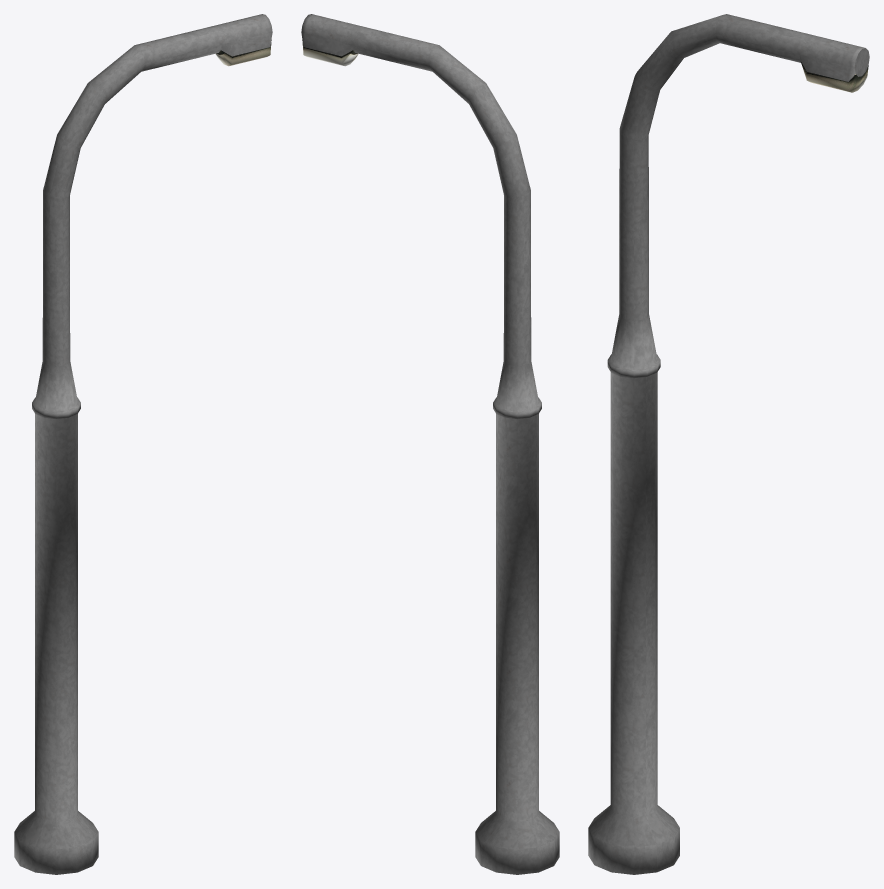
File: lamp.fbx
3 renders of one model, left to right at view 1: azimuth 30°, elevation 25°; view 2: azimuth 150°, elevation 25°; view 3: azimuth 330°, elevation 25°, orthographic. The views are drawn at different scales.
Visible parts, largest first — view 1: Cylinder; view 2: Cylinder; view 3: Cylinder.
Boxes of the visible parts, x1,y1,x2,y2 form: Cylinder: (14, 14, 272, 874); Cylinder: (301, 14, 559, 874); Cylinder: (588, 14, 869, 874).
Bounding box in the file's own units: 513 × 1578 × 152.
